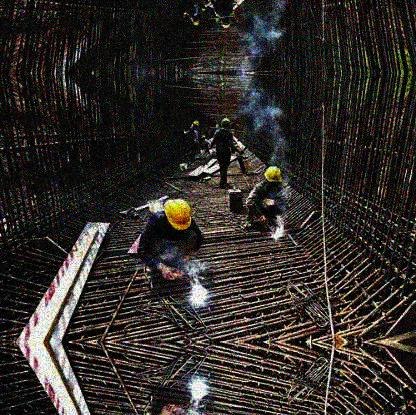helmet: (161, 199, 192, 231), (264, 167, 282, 186), (221, 117, 230, 127), (222, 17, 230, 28), (191, 120, 199, 128), (192, 18, 200, 25)
